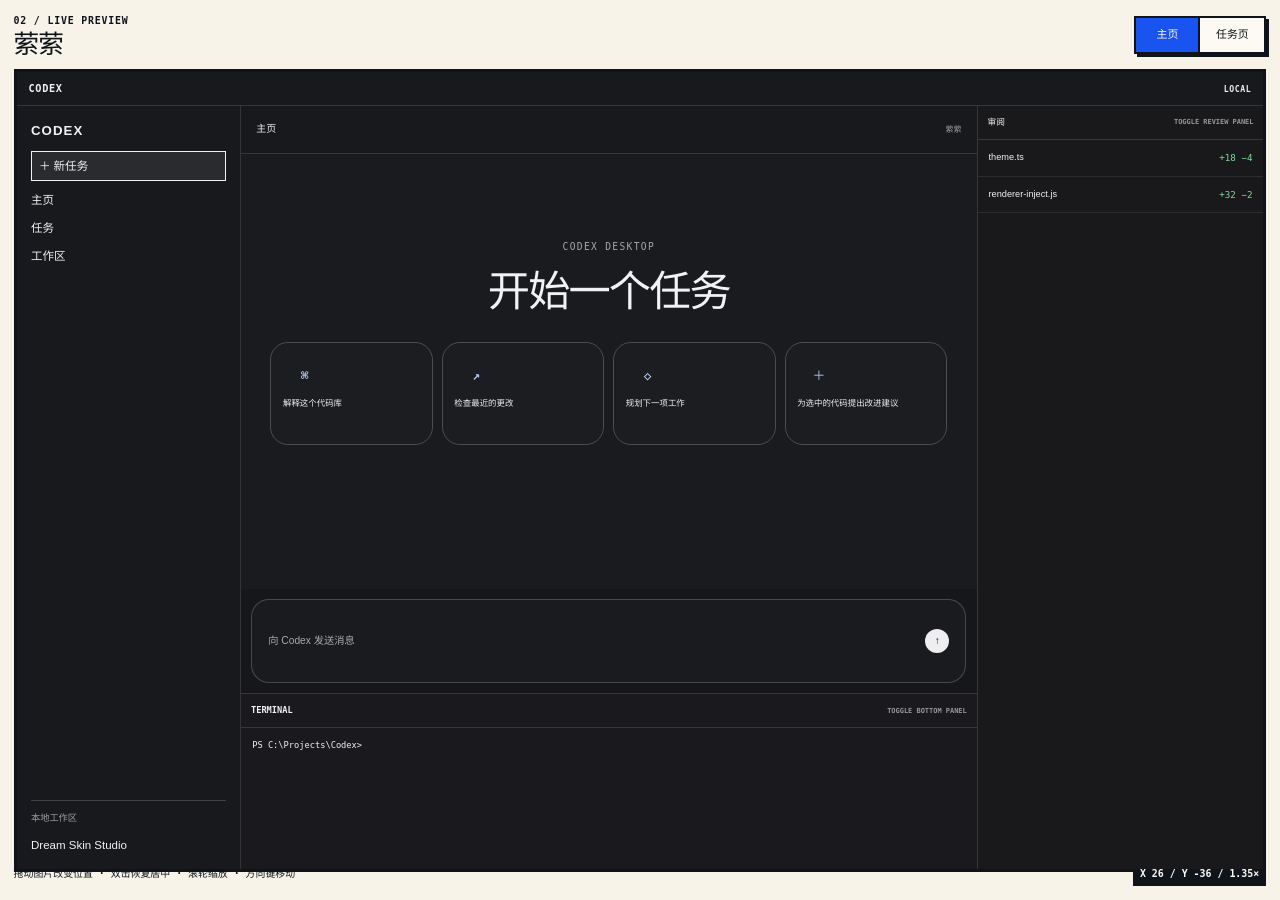
it: PreviewCanvas › switches modes without content-avoidance overlays and renders representative Codex surfaces
Expected: the heading "开始一个任务" is shown, left=488, top=268, right=730, bottom=315
Click the tab "任务页": (1232, 35) left=1200, top=18, right=1264, bottom=52
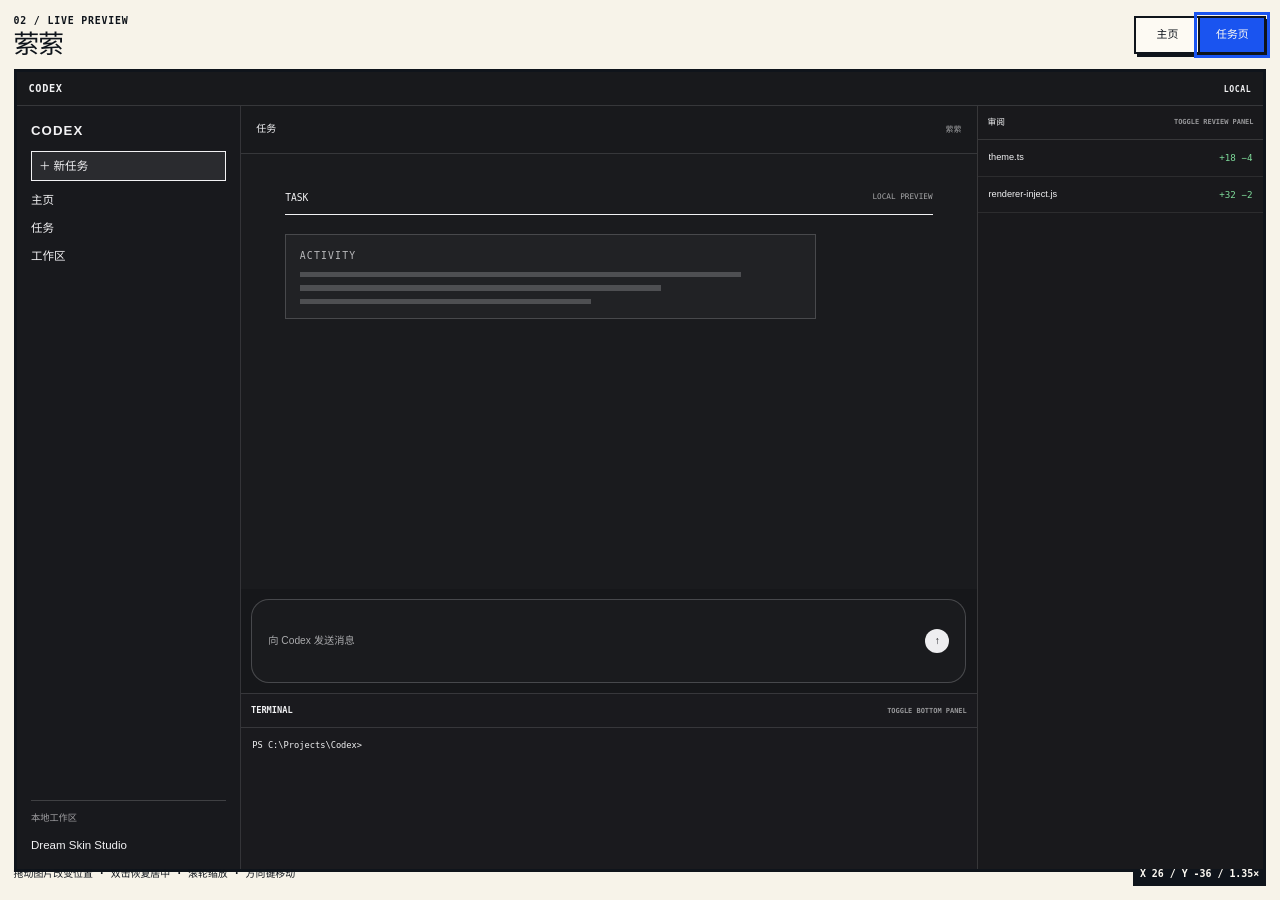
Result: the element with test id "preview-task-activity" is shown at left=285, top=234, right=816, bottom=319
